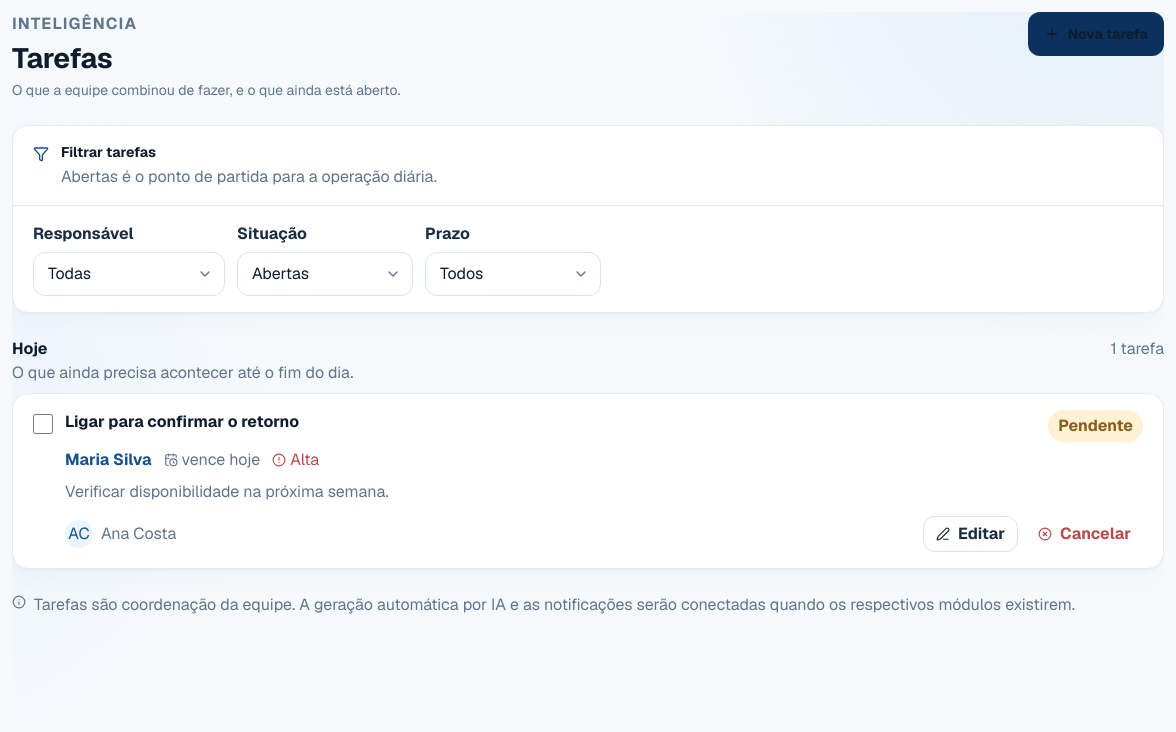
filtros › limpar filtros volta ao recorte inicial
The width and height of the screenshot is (1176, 732).
Select "Concluídas" in the dropdown labelled "Situação": point(325, 274) [237,252,413,296]
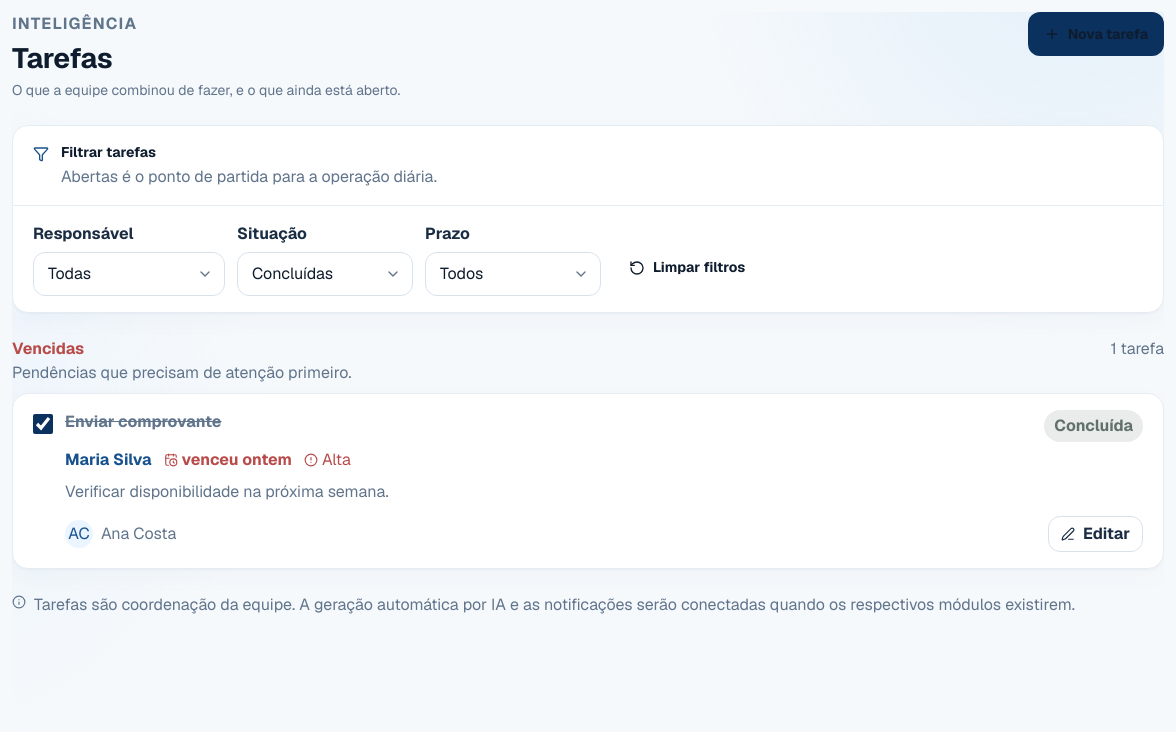
Click the button "Limpar filtros": point(687, 268) [613,246,761,290]
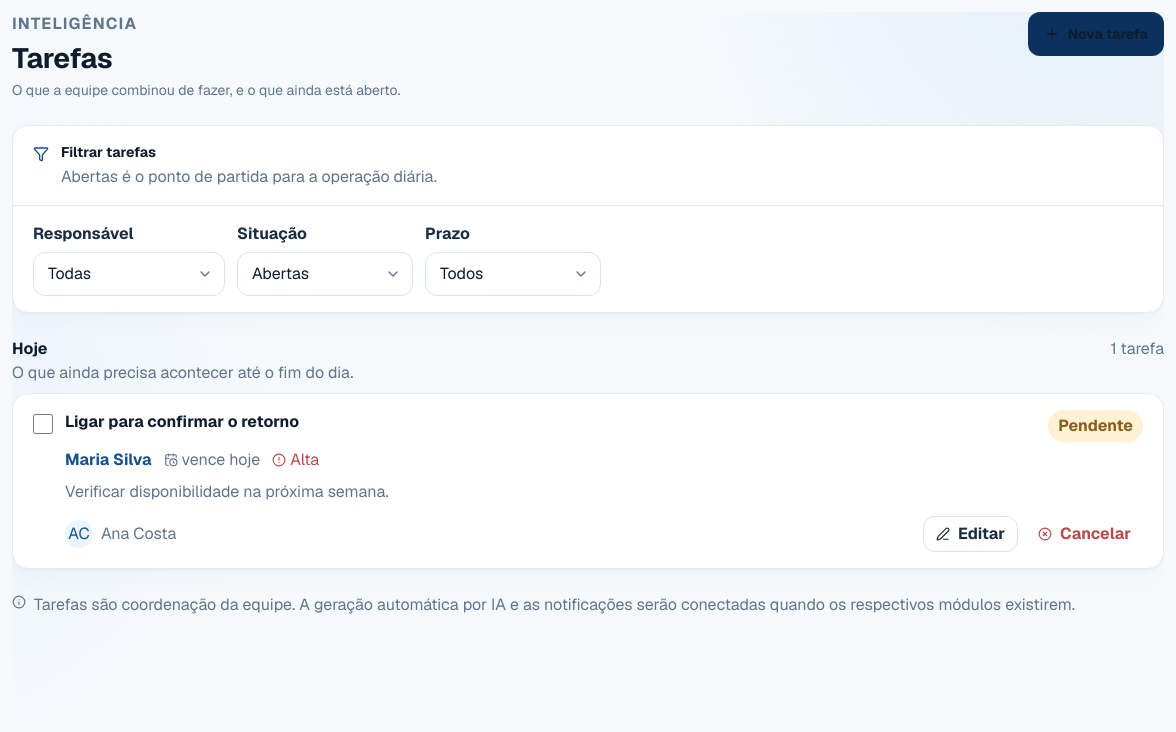
Expected: the text "Ligar para confirmar o retorno" is shown, [65,411,299,432]
Expected: the text "Enviar comprovante" is gone
